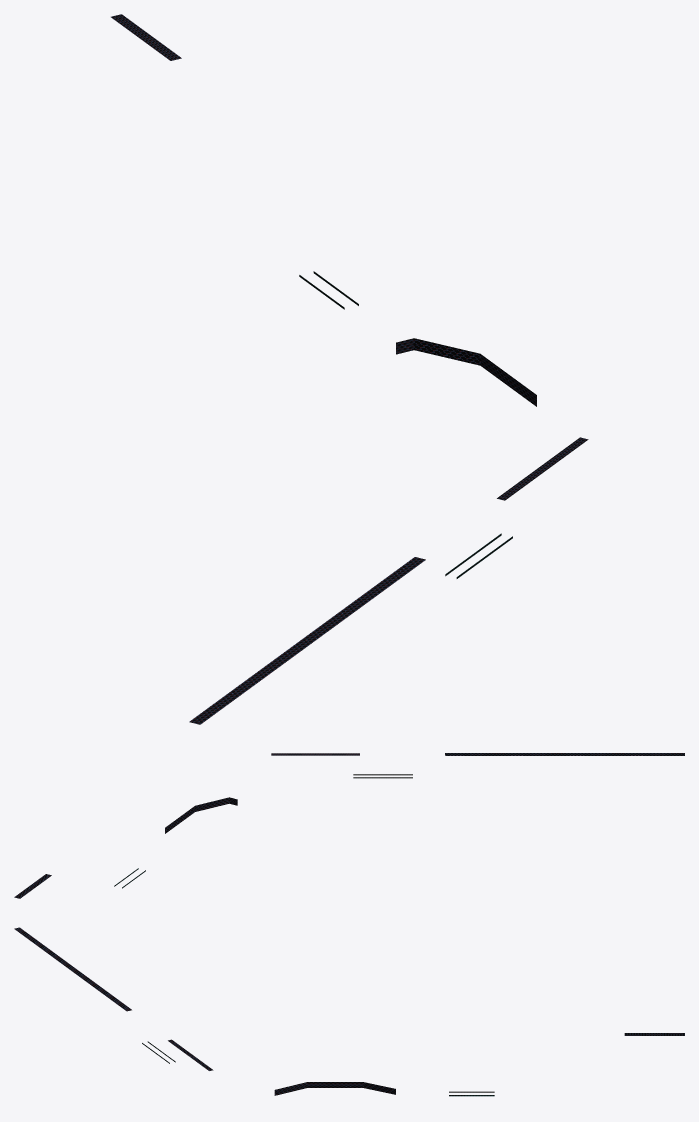
3 views of the same model, one above another, from view 1: azimuth 30°, elevation 25°; view 2: azimuth 150°, elevation 25°; view 3: azimuth 270°, elevation 25° (orthographic). The views are drawn at different scales.
Visible parts, largest first — view 1: s03_pn_05_0; view 2: s03_pn_05_0, s03_pn_05_1; view 3: s03_pn_05_0.
Boxes of the visible parts, bbox=[...] form: s03_pn_05_0: bbox=[111, 14, 588, 724]; s03_pn_05_0: bbox=[14, 753, 684, 898]; s03_pn_05_1: bbox=[114, 774, 412, 888]; s03_pn_05_0: bbox=[14, 927, 684, 1095].
Size of the model in its own units: 4431 by 835 by 8106.
